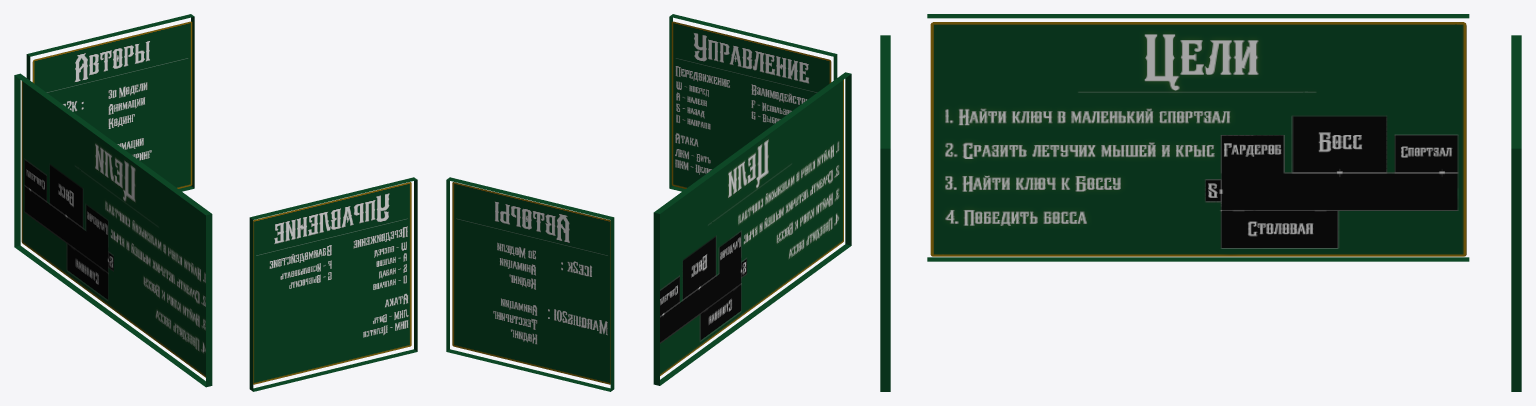
File: tasks.fbx
3 views of the same model, side by side, from view 1: azimuth 30°, elevation 25°; view 2: azimuth 150°, elevation 25°; view 3: azimuth 270°, elevation 25° (orthographic). The views are drawn at different scales.
Parts seen in each view (by area): view 1: Куб.004, Куб.005, Куб.002; view 2: Куб.004, Куб.002, Куб.005; view 3: Куб.004, Куб.002, Куб.005.
Boxes of the visible parts, x1,y1,x2,y2 form: Куб.004: (14, 73, 212, 387); Куб.005: (249, 177, 417, 391); Куб.002: (26, 14, 194, 191); Куб.004: (653, 72, 851, 385); Куб.002: (446, 177, 614, 391); Куб.005: (669, 14, 837, 191); Куб.004: (927, 14, 1469, 261); Куб.002: (1511, 35, 1521, 391); Куб.005: (880, 35, 890, 391).
Bounding box in the file's own units: 238 × 200 × 478.
